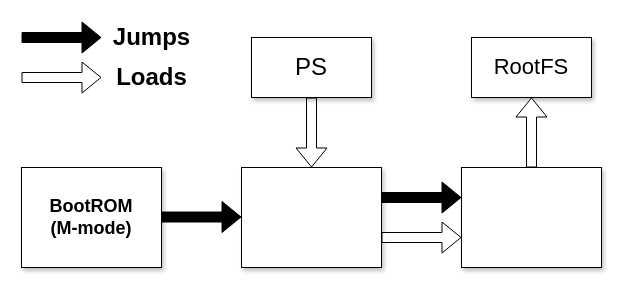
The diagram is 625 pixels wide and 292 high, and some of its shapes have lost their labels. The centre of each missing label's shape, as x and y in pixels:
"Linux (S-mode)" belongs at point 532,218.
"OpenSBI (M-mode)" belongs at point 312,218.
